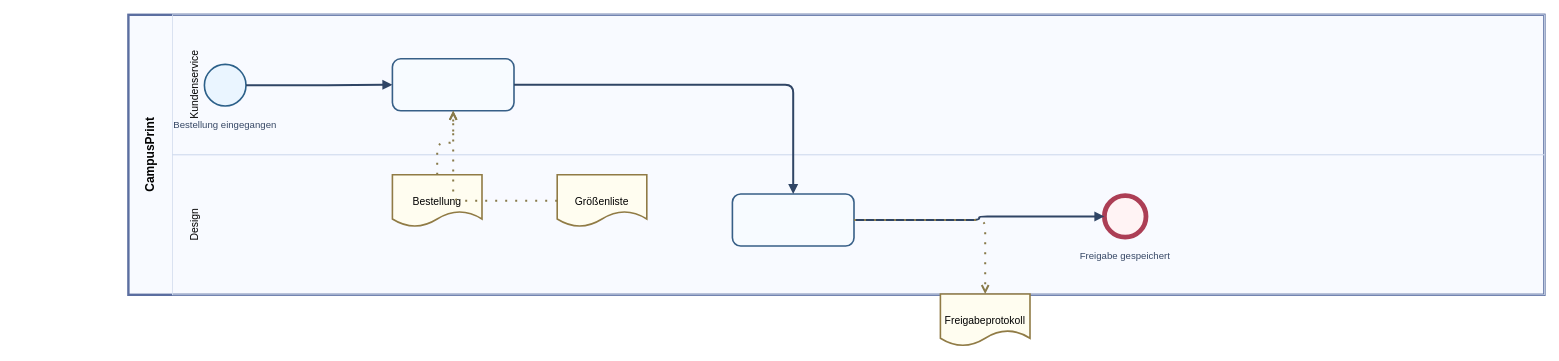
The diagram is 1559 pixels wide and 361 high, and some of its shapes have lost their labels. Here are the shapes that lost their labels. From the top down, the box of each, then its label:
(391, 58, 514, 111): Bestellung prüfen
(731, 193, 854, 246): Freigabe dokumentieren
